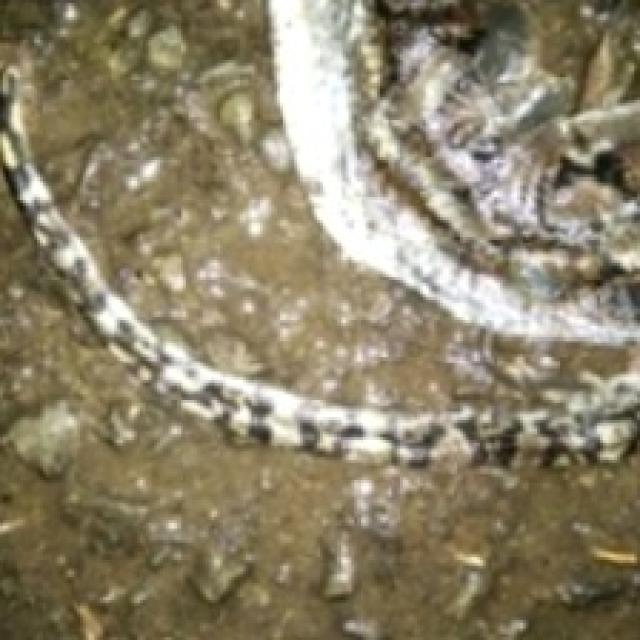reticulated python: (0, 66, 637, 463)
